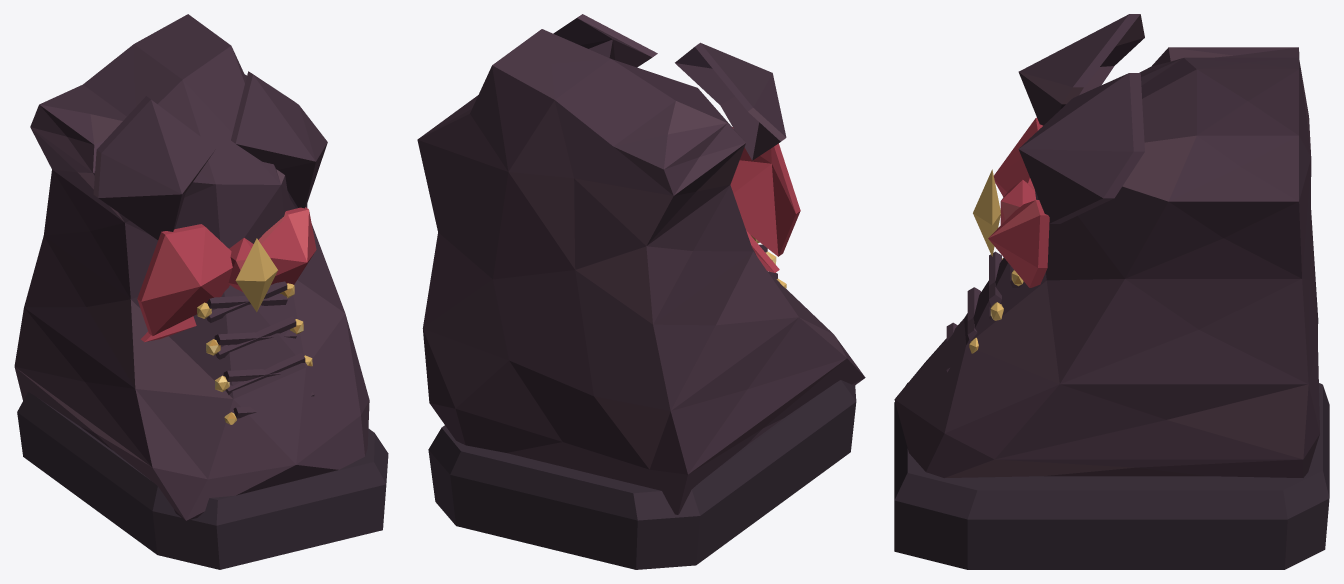
Rendered from boot_right.glb.
The picture shows the model from 3 angles, left to right: view 1: azimuth 30°, elevation 25°; view 2: azimuth 150°, elevation 25°; view 3: azimuth 270°, elevation 25°; orthographic projection. The views are drawn at different scales.
Visible parts, largest first — view 1: Boot • reference folded leather shell.R, Boot • sculpted platform sole.R, Boot • sharp folded cuff.R-1, Boot bow.R • reference left loop, Boot • sharp folded cuff.R1, Boot bow.R • reference right loop, Boot bow.R • diamond clasp, Boot lace.R.2.-1, Boot lace.R.3.1, Boot bow.R • knot, Boot lace.R.1.-1, Boot lace.R.2.1 (+2 smaller); view 2: Boot • reference folded leather shell.R, Boot • sculpted platform sole.R, Boot • sharp folded cuff.R-1, Boot bow.R • reference left loop, Boot • sharp folded cuff.R1; view 3: Boot • reference folded leather shell.R, Boot • sculpted platform sole.R, Boot • sharp folded cuff.R1, Boot • sharp folded cuff.R-1, Boot bow.R • reference right loop, Boot bow.R • reference left loop, Boot bow.R • diamond clasp, Boot bow.R • knot.
Part boxes in pixels (left/top/right/bottom): Boot • reference folded leather shell.R: left=14, top=14, right=369, bottom=520; Boot • sculpted platform sole.R: left=17, top=392, right=388, bottom=569; Boot • sharp folded cuff.R-1: left=93, top=96, right=216, bottom=239; Boot bow.R • reference left loop: left=137, top=224, right=232, bottom=335; Boot • sharp folded cuff.R1: left=231, top=71, right=327, bottom=208; Boot bow.R • reference right loop: left=258, top=207, right=316, bottom=284; Boot bow.R • diamond clasp: left=235, top=238, right=277, bottom=312; Boot lace.R.2.-1: left=215, top=316, right=296, bottom=359; Boot lace.R.3.1: left=206, top=294, right=287, bottom=308; Boot bow.R • knot: left=228, top=238, right=253, bottom=291; Boot lace.R.1.-1: left=226, top=352, right=305, bottom=394; Boot lace.R.2.1: left=214, top=330, right=296, bottom=345; Boot • reference folded leather shell.R: left=417, top=29, right=865, bottom=514; Boot • sculpted platform sole.R: left=428, top=380, right=856, bottom=569; Boot • sharp folded cuff.R-1: left=675, top=42, right=786, bottom=160; Boot bow.R • reference left loop: left=730, top=127, right=800, bottom=256; Boot • sharp folded cuff.R1: left=553, top=14, right=657, bottom=67; Boot • reference folded leather shell.R: left=894, top=47, right=1319, bottom=478; Boot • sculpted platform sole.R: left=894, top=383, right=1329, bottom=569; Boot • sharp folded cuff.R1: left=1018, top=73, right=1144, bottom=223; Boot • sharp folded cuff.R-1: left=1018, top=14, right=1144, bottom=125; Boot bow.R • reference right loop: left=988, top=200, right=1049, bottom=287; Boot bow.R • reference left loop: left=994, top=117, right=1042, bottom=196; Boot bow.R • diamond clasp: left=973, top=169, right=1000, bottom=256; Boot bow.R • knot: left=1000, top=179, right=1036, bottom=224.
Bounding box in the file's own units: 0.755 × 1.19 × 1.
